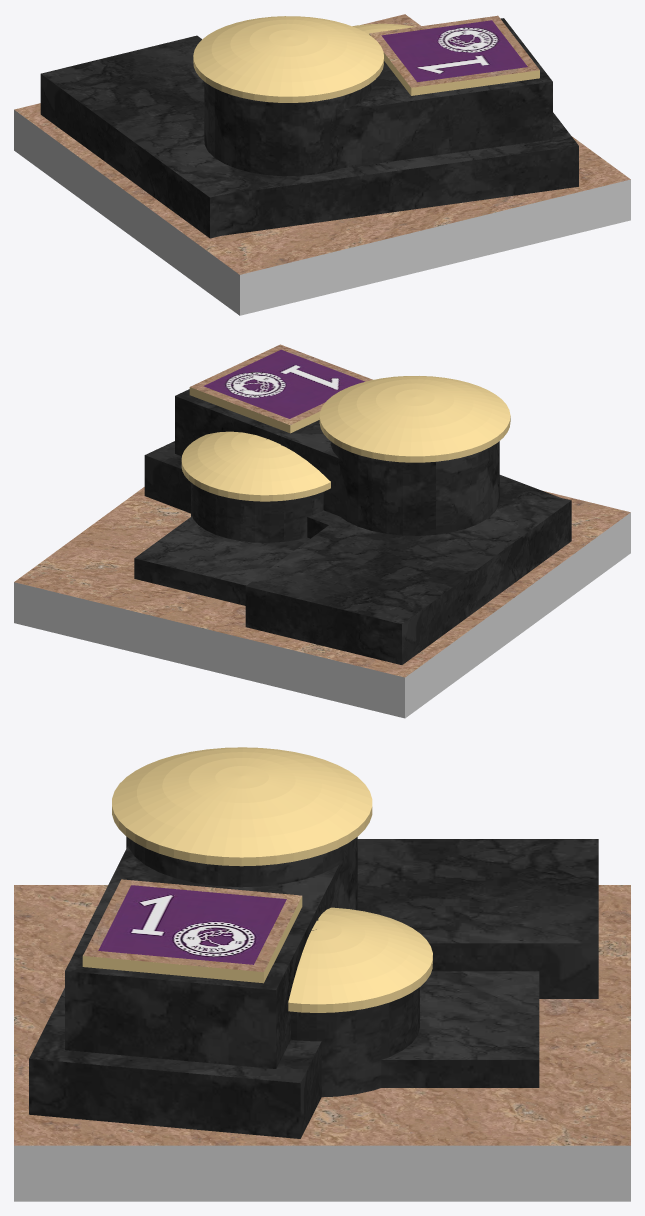
File: buildingPanaderiaI.glb
3 views of the same model, one above another, from view 1: azimuth 30°, elevation 25°; view 2: azimuth 150°, elevation 25°; view 3: azimuth 270°, elevation 25° (orthographic). The views are drawn at different scales.
Visible parts, largest first — view 1: Panaderia; view 2: Panaderia; view 3: Panaderia.
Part boxes in pixels (x1,y1,x2,y2): Panaderia: [14, 14, 630, 315]; Panaderia: [14, 344, 630, 718]; Panaderia: [14, 747, 630, 1201].
Size of the model in its own units: 2 by 0.9045 by 2.
Materials: 5 (3 with a texture image).
